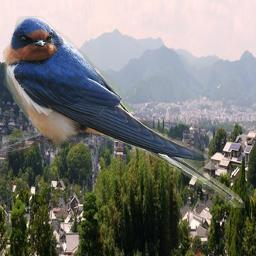Swallow: (2, 16, 245, 208)
